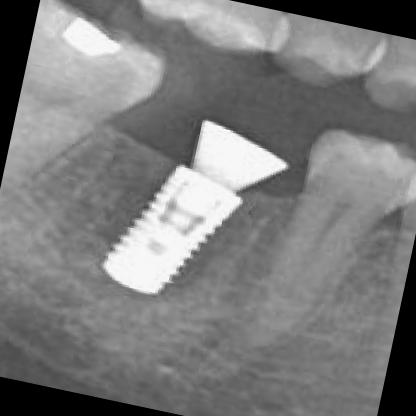ITI: (77, 156, 262, 321)
